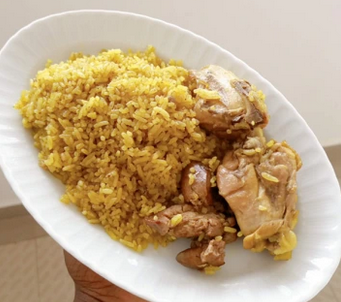poulet: (224, 142, 300, 240)
riz saute: (43, 63, 166, 189)
